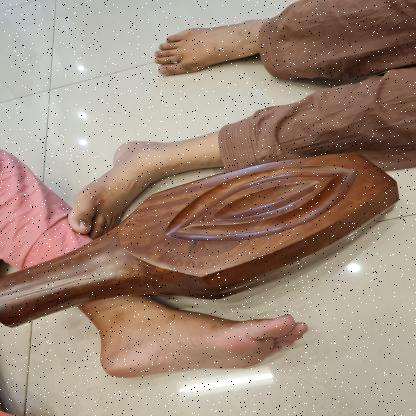leg: (74, 296, 320, 382), (64, 129, 229, 241), (146, 16, 266, 80)
